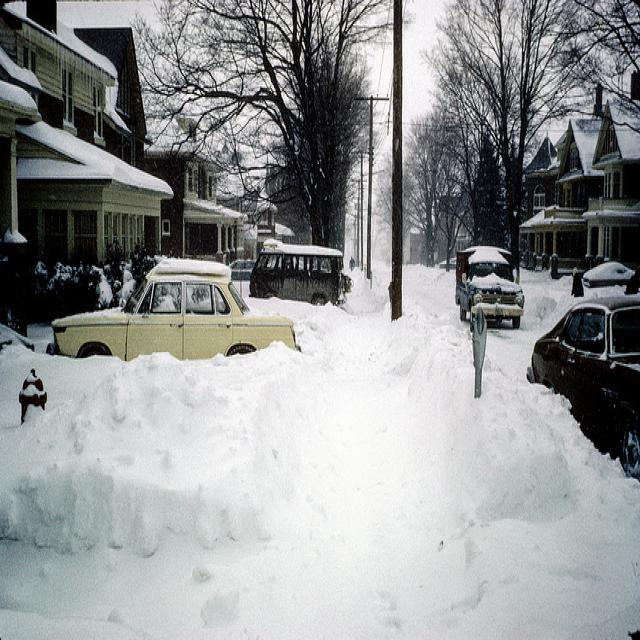Vehicle: (53, 258, 296, 362), (528, 288, 640, 472), (249, 243, 346, 306), (456, 246, 525, 333), (583, 261, 635, 289)
